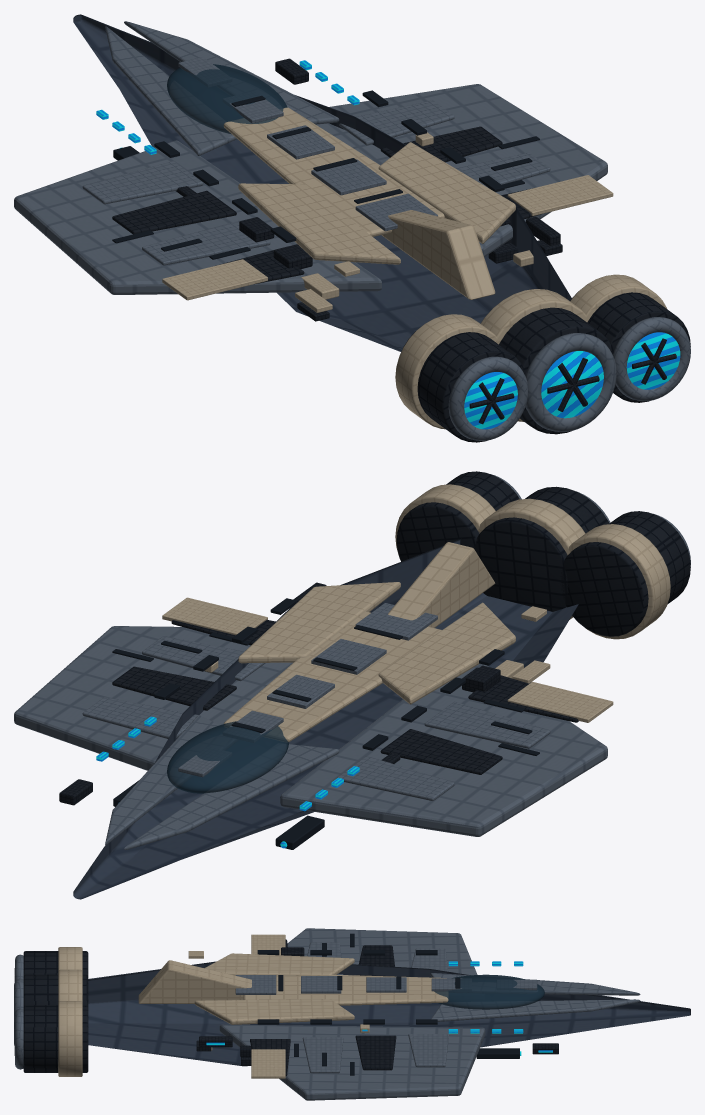
The model's file is aur-lance-interceptor.glb.
3 views of the same model, one above another, from view 1: azimuth 30°, elevation 25°; view 2: azimuth 150°, elevation 25°; view 3: azimuth 270°, elevation 25° (orthographic). The views are drawn at different scales.
Visible parts, largest first — view 1: Primary_Hull, Wing_L, Wing_R, Aft_Shoulder_L, Dorsal_Armor, Aft_Shoulder_R, Dorsal_Fin, Forward_Armor_L, Canopy, Engine_L, Engine_Center_Nozzle_Ring, Engine_L_Armor (+25 smaller); view 2: Wing_L, Primary_Hull, Wing_R, Engine_L, Engine_Center, Dorsal_Armor, Aft_Shoulder_R, Aft_Shoulder_L, Canopy, Forward_Armor_L, Dorsal_Fin, Engine_R (+19 smaller); view 3: Primary_Hull, Wing_R, Wing_L, Dorsal_Fin, Dorsal_Armor, Aft_Shoulder_R, Engine_R, Forward_Armor_R, Canopy, Aft_Shoulder_L, Engine_R_Armor, Forward_Armor_L (+23 smaller).
Part boxes in pixels (box(x1,y1,x2,y2)): Primary_Hull: box(73, 14, 571, 351); Wing_L: box(14, 140, 381, 294); Wing_R: box(316, 84, 607, 257); Aft_Shoulder_L: box(238, 183, 400, 264); Dorsal_Armor: box(223, 107, 444, 236); Aft_Shoulder_R: box(378, 142, 515, 243); Dorsal_Fin: box(381, 210, 495, 299); Forward_Armor_L: box(105, 26, 236, 155); Canopy: box(167, 64, 287, 134); Engine_L: box(400, 331, 523, 442); Engine_Center_Nozzle_Ring: box(525, 333, 616, 431); Engine_L_Armor: box(395, 314, 499, 429); Wing_L: box(280, 663, 607, 836); Primary_Hull: box(73, 532, 578, 899); Wing_R: box(14, 626, 292, 770); Engine_L: box(560, 511, 690, 636); Engine_Center: box(474, 486, 609, 611); Dorsal_Armor: box(224, 611, 441, 742); Aft_Shoulder_R: box(238, 582, 400, 663); Aft_Shoulder_L: box(378, 602, 515, 704); Canopy: box(167, 721, 288, 793); Forward_Armor_L: box(124, 743, 339, 849); Dorsal_Fin: box(388, 542, 495, 627); Engine_R: box(396, 471, 519, 561); Primary_Hull: box(88, 961, 690, 1066); Wing_R: box(219, 1024, 485, 1100); Wing_L: box(287, 928, 477, 975); Dorsal_Fin: box(138, 960, 251, 1003); Dorsal_Armor: box(243, 974, 448, 1005); Aft_Shoulder_R: box(194, 999, 354, 1024); Engine_R: box(23, 1005, 88, 1072); Forward_Armor_R: box(431, 999, 640, 1021); Canopy: box(434, 974, 544, 1009); Aft_Shoulder_L: box(204, 953, 354, 975); Engine_R_Armor: box(58, 1001, 82, 1076); Forward_Armor_L: box(430, 973, 640, 995).
Size of the model in its own units: 8.81 by 2.26 by 15.25.
Materials: 7 (5 with a texture image).
